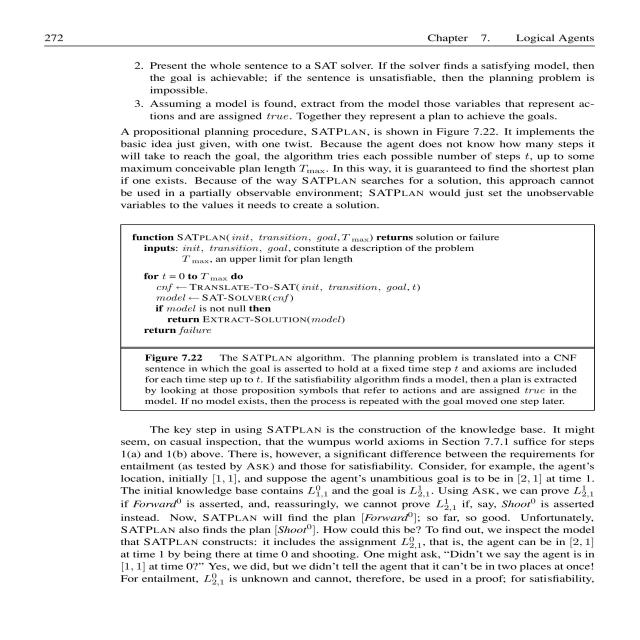diagram: (110, 213, 640, 422)
